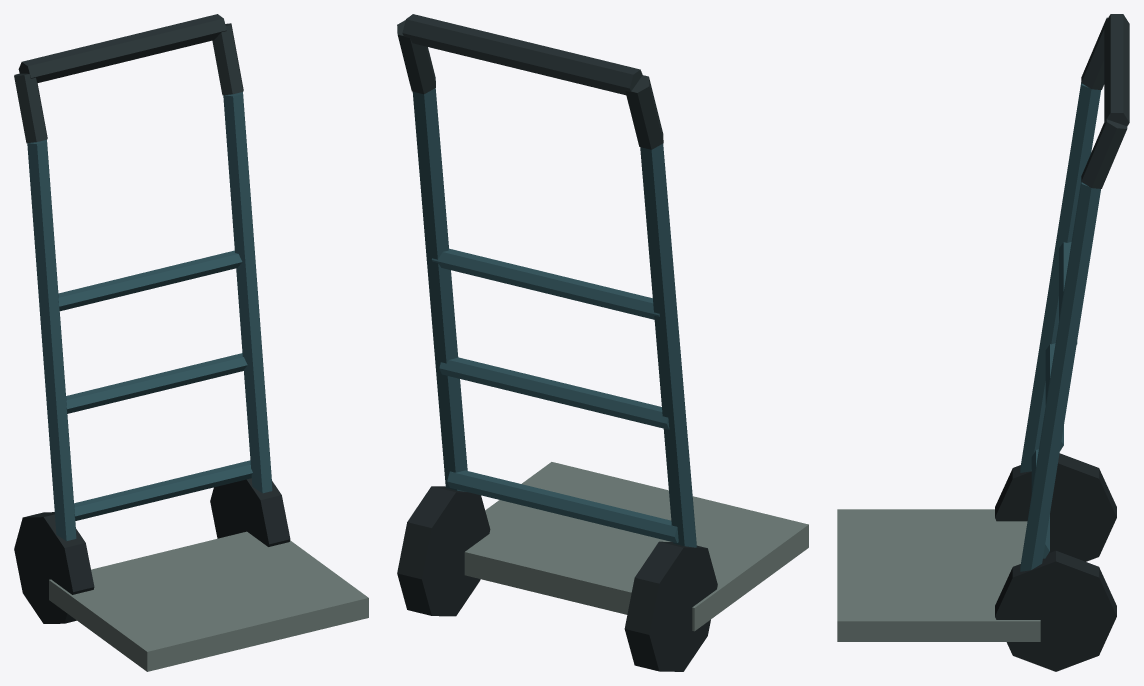
3 views of the same model, side by side, from view 1: azimuth 30°, elevation 25°; view 2: azimuth 150°, elevation 25°; view 3: azimuth 270°, elevation 25° (orthographic). The views are drawn at different scales.
Visible parts, largest first — view 1: a87; view 2: a87; view 3: a87.
Boxes of the visible parts, x1,y1,x2,y2 form: a87: (14, 14, 368, 671); a87: (397, 14, 808, 671); a87: (837, 14, 1129, 671).
Bounding box in the file's own units: 0.52 × 1.2 × 0.575.
